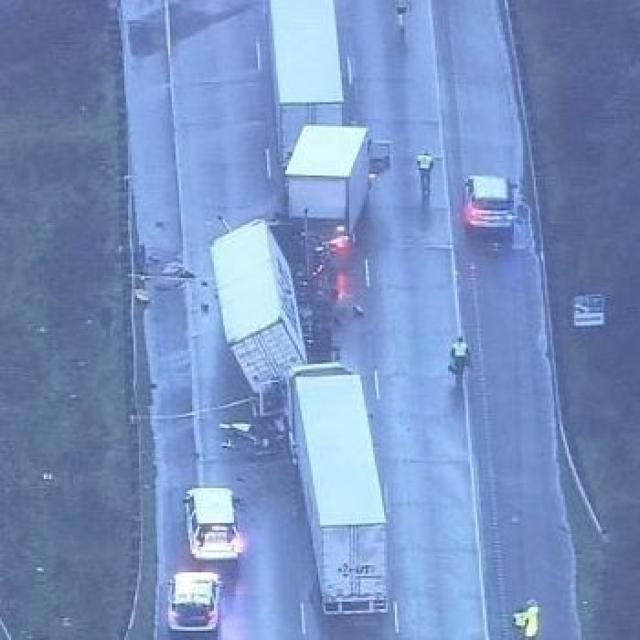traffic_incident: (206, 86, 368, 404)
